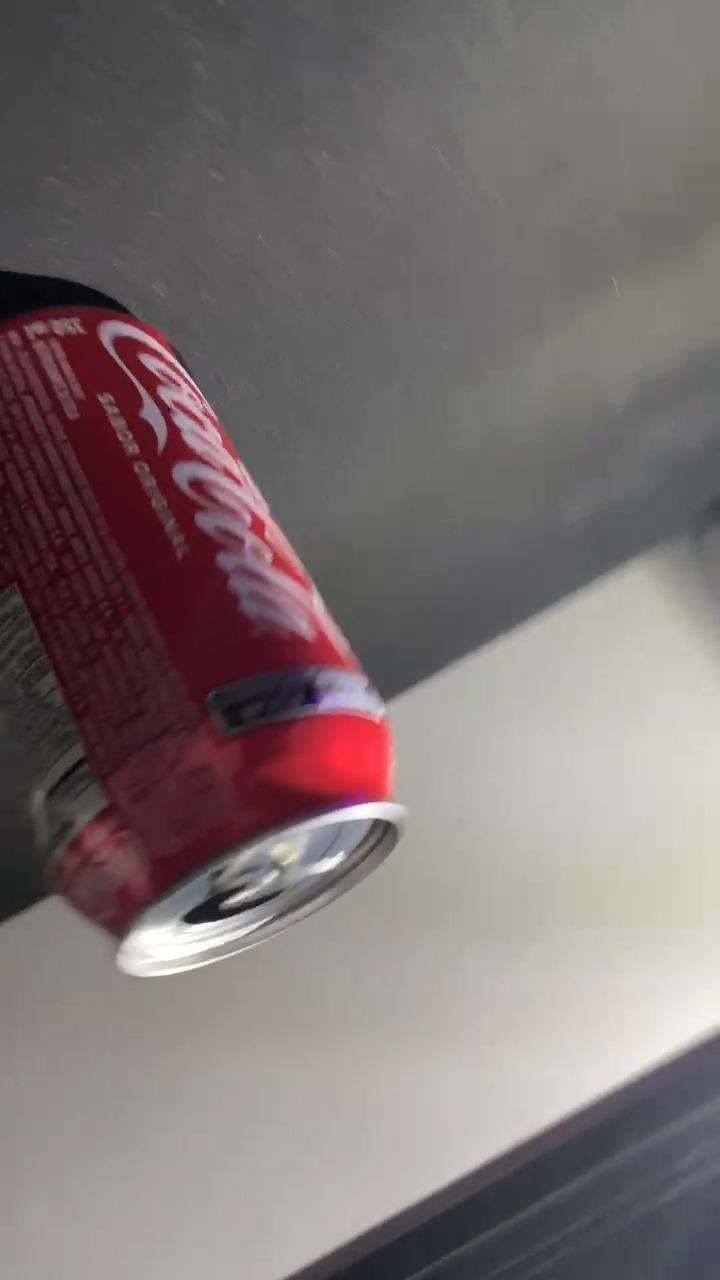coke: (0, 280, 403, 966)
